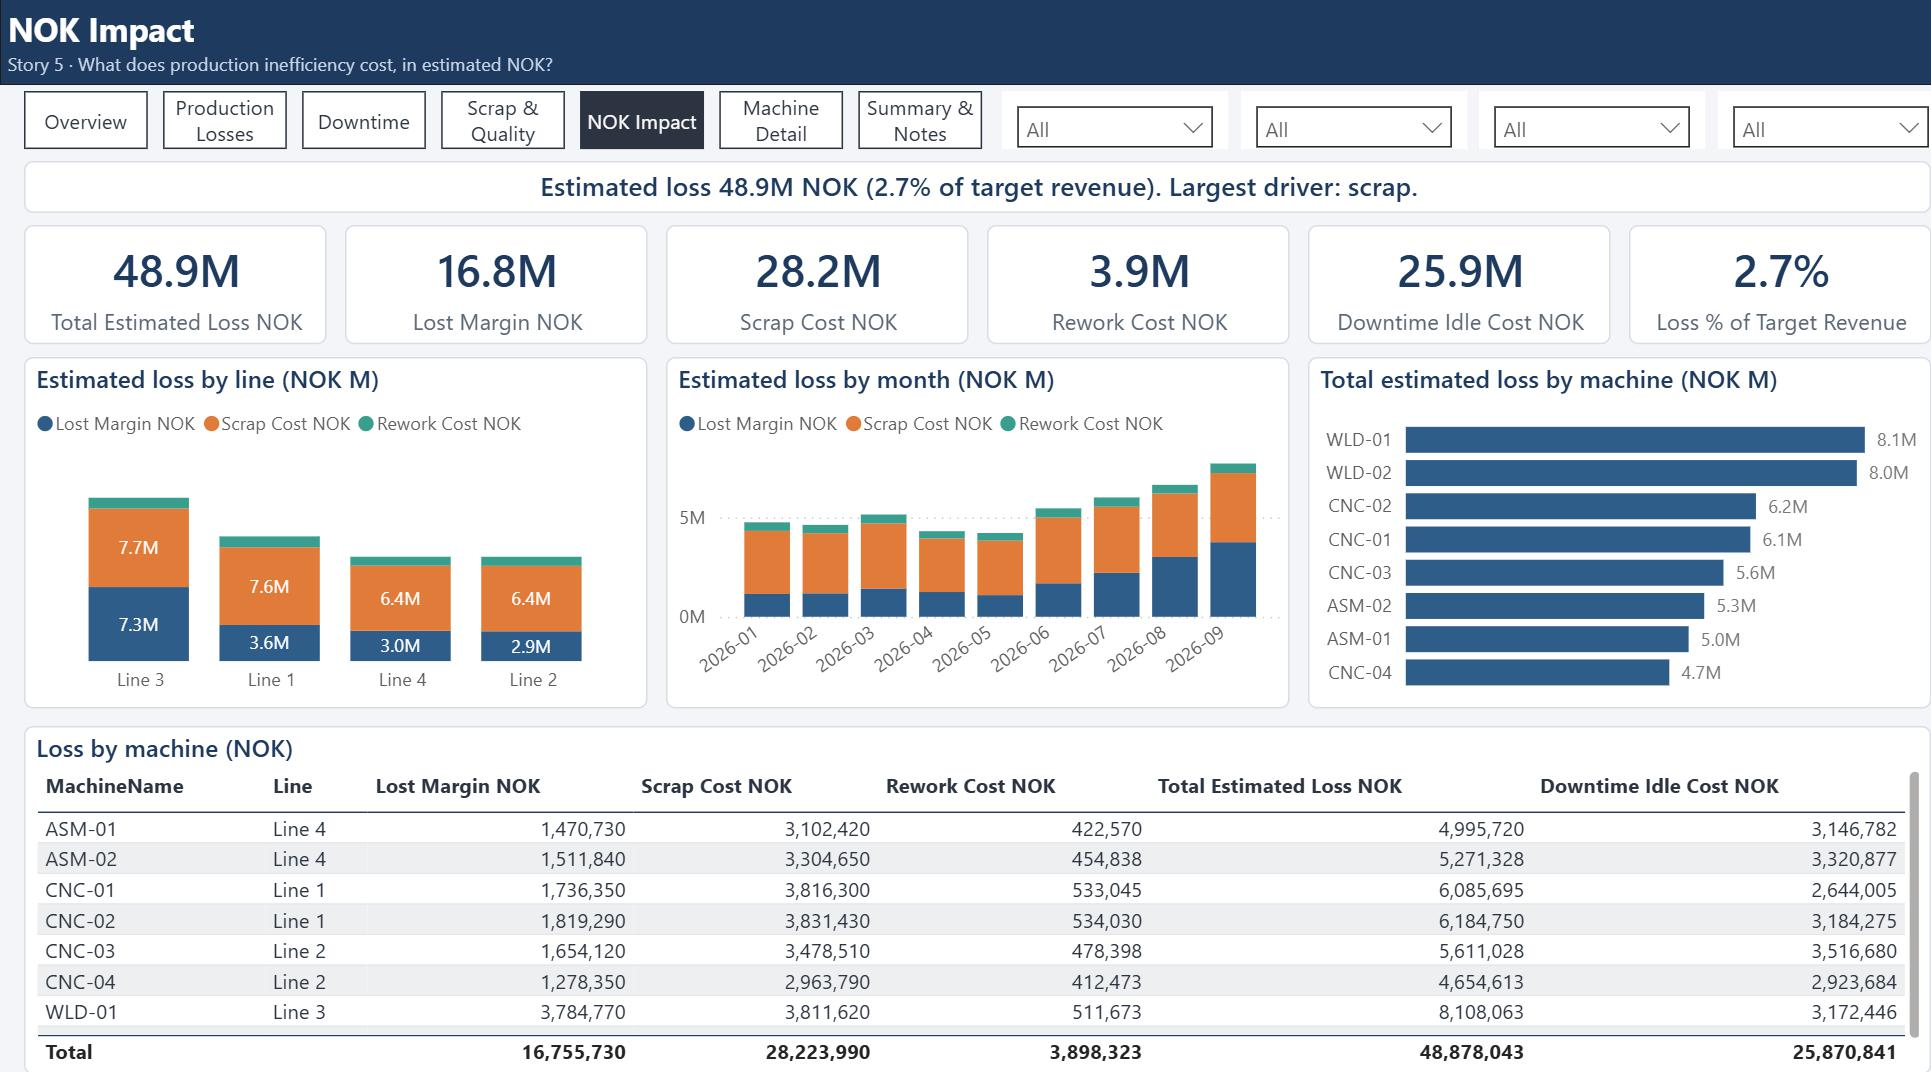

What the dashboard file says about the page in this screenshot:
{"tool":"powerbi","page":{"name":"NOK Impact","canvas":[1280,720],"ordinal":4},"visuals":[{"type":"textbox","box":[0,0,1280,56],"z":100},{"type":"pageNavigator","box":[16,60,630,38],"z":200},{"type":"slicer","fields":{"Values":["Dim_Calendar.YearMonth"]},"box":[656,60,148,38],"z":300},{"type":"slicer","fields":{"Values":["Dim_Line.LineName"]},"box":[812,60,148,38],"z":400},{"type":"slicer","fields":{"Values":["Dim_Shift.ShiftName"]},"box":[968,60,148,38],"z":500},{"type":"slicer","fields":{"Values":["Dim_Product.ProductName"]},"box":[1124,60,148,38],"z":600},{"type":"card","fields":{"Values":["_Measures.Headline Impact"]},"box":[16,106,1248,34],"z":700},{"type":"card","fields":{"Values":["_Measures.Total Estimated Loss NOK"]},"box":[16,148,198,78],"z":800},{"type":"card","fields":{"Values":["_Measures.Lost Margin NOK"]},"box":[226,148,198,78],"z":900},{"type":"card","fields":{"Values":["_Measures.Scrap Cost NOK"]},"box":[436,148,198,78],"z":1000},{"type":"card","fields":{"Values":["_Measures.Rework Cost NOK"]},"box":[646,148,198,78],"z":1100},{"type":"card","fields":{"Values":["_Measures.Downtime Idle Cost NOK"]},"box":[856,148,198,78],"z":1200},{"type":"card","fields":{"Values":["_Measures.Loss % of Target Revenue"]},"box":[1066,148,198,78],"z":1300},{"type":"columnChart","title":"Estimated loss by line (NOK M)","fields":{"Category":["Dim_Line.LineName"],"Y":["_Measures.Lost Margin NOK","_Measures.Scrap Cost NOK","_Measures.Rework Cost NOK"]},"box":[16,234,408,230],"z":1400},{"type":"columnChart","title":"Estimated loss by month (NOK M)","fields":{"Category":["Dim_Calendar.YearMonth"],"Y":["_Measures.Lost Margin NOK","_Measures.Scrap Cost NOK","_Measures.Rework Cost NOK"]},"box":[436,234,408,230],"z":1500},{"type":"clusteredBarChart","title":"Total estimated loss by machine (NOK M)","fields":{"Category":["Dim_Machine.MachineName"],"Y":["_Measures.Total Estimated Loss NOK"]},"box":[856,234,408,230],"z":1600},{"type":"tableEx","title":"Loss by machine (NOK)","fields":{"Values":["Dim_Machine.MachineName","Dim_Machine.Line","_Measures.Lost Margin NOK","_Measures.Scrap Cost NOK","_Measures.Rework Cost NOK","_Measures.Total Estimated Loss NOK","_Measures.Downtime Idle Cost NOK"]},"box":[16,476,1248,228],"z":1700}]}

Visuals, with their boxes in screenshot pixels (x1, y1, x2, y2), scaled from the page's 1280x720 canvas onto the 1931x1072 screenshot:
textbox: 0/0/1930/83
pageNavigator: 24/89/975/146
slicer - Dim_Calendar.YearMonth: 990/89/1213/146
slicer - Dim_Line.LineName: 1225/89/1448/146
slicer - Dim_Shift.ShiftName: 1460/89/1684/146
slicer - Dim_Product.ProductName: 1696/89/1919/146
card - _Measures.Headline Impact: 24/158/1907/208
card - _Measures.Total Estimated Loss NOK: 24/220/323/336
card - _Measures.Lost Margin NOK: 341/220/640/336
card - _Measures.Scrap Cost NOK: 658/220/956/336
card - _Measures.Rework Cost NOK: 975/220/1273/336
card - _Measures.Downtime Idle Cost NOK: 1291/220/1590/336
card - _Measures.Loss % of Target Revenue: 1608/220/1907/336
"Estimated loss by line (NOK M)" columnChart: 24/348/640/691
"Estimated loss by month (NOK M)" columnChart: 658/348/1273/691
"Total estimated loss by machine (NOK M)" clusteredBarChart: 1291/348/1907/691
"Loss by machine (NOK)" tableEx: 24/709/1907/1048
